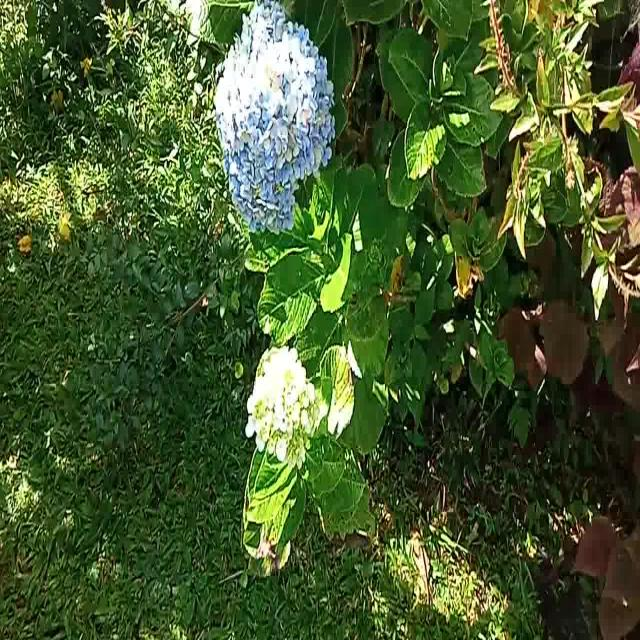Flower: (214, 2, 337, 237), (248, 343, 316, 461)
